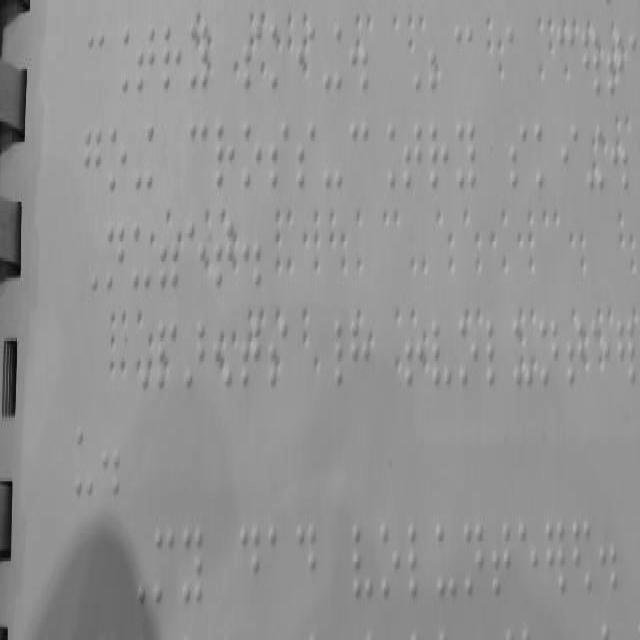braiile: (432, 513, 462, 611), (348, 513, 376, 607), (238, 514, 264, 610), (378, 513, 404, 607), (266, 516, 292, 608), (516, 516, 542, 604), (295, 515, 319, 609), (406, 514, 429, 610), (181, 523, 205, 610), (346, 114, 372, 192), (294, 116, 318, 200), (491, 518, 515, 602), (464, 518, 486, 606), (187, 116, 211, 196), (456, 116, 480, 196), (103, 216, 127, 296), (107, 118, 129, 205), (239, 116, 263, 194), (154, 524, 176, 609), (428, 116, 452, 192), (506, 120, 530, 196), (402, 112, 424, 194), (84, 24, 106, 104), (82, 122, 104, 202), (214, 116, 236, 196), (268, 118, 290, 198), (536, 116, 556, 204), (74, 421, 95, 503), (161, 21, 183, 99), (188, 19, 210, 97), (561, 115, 581, 196), (136, 23, 156, 101), (132, 216, 152, 291)
